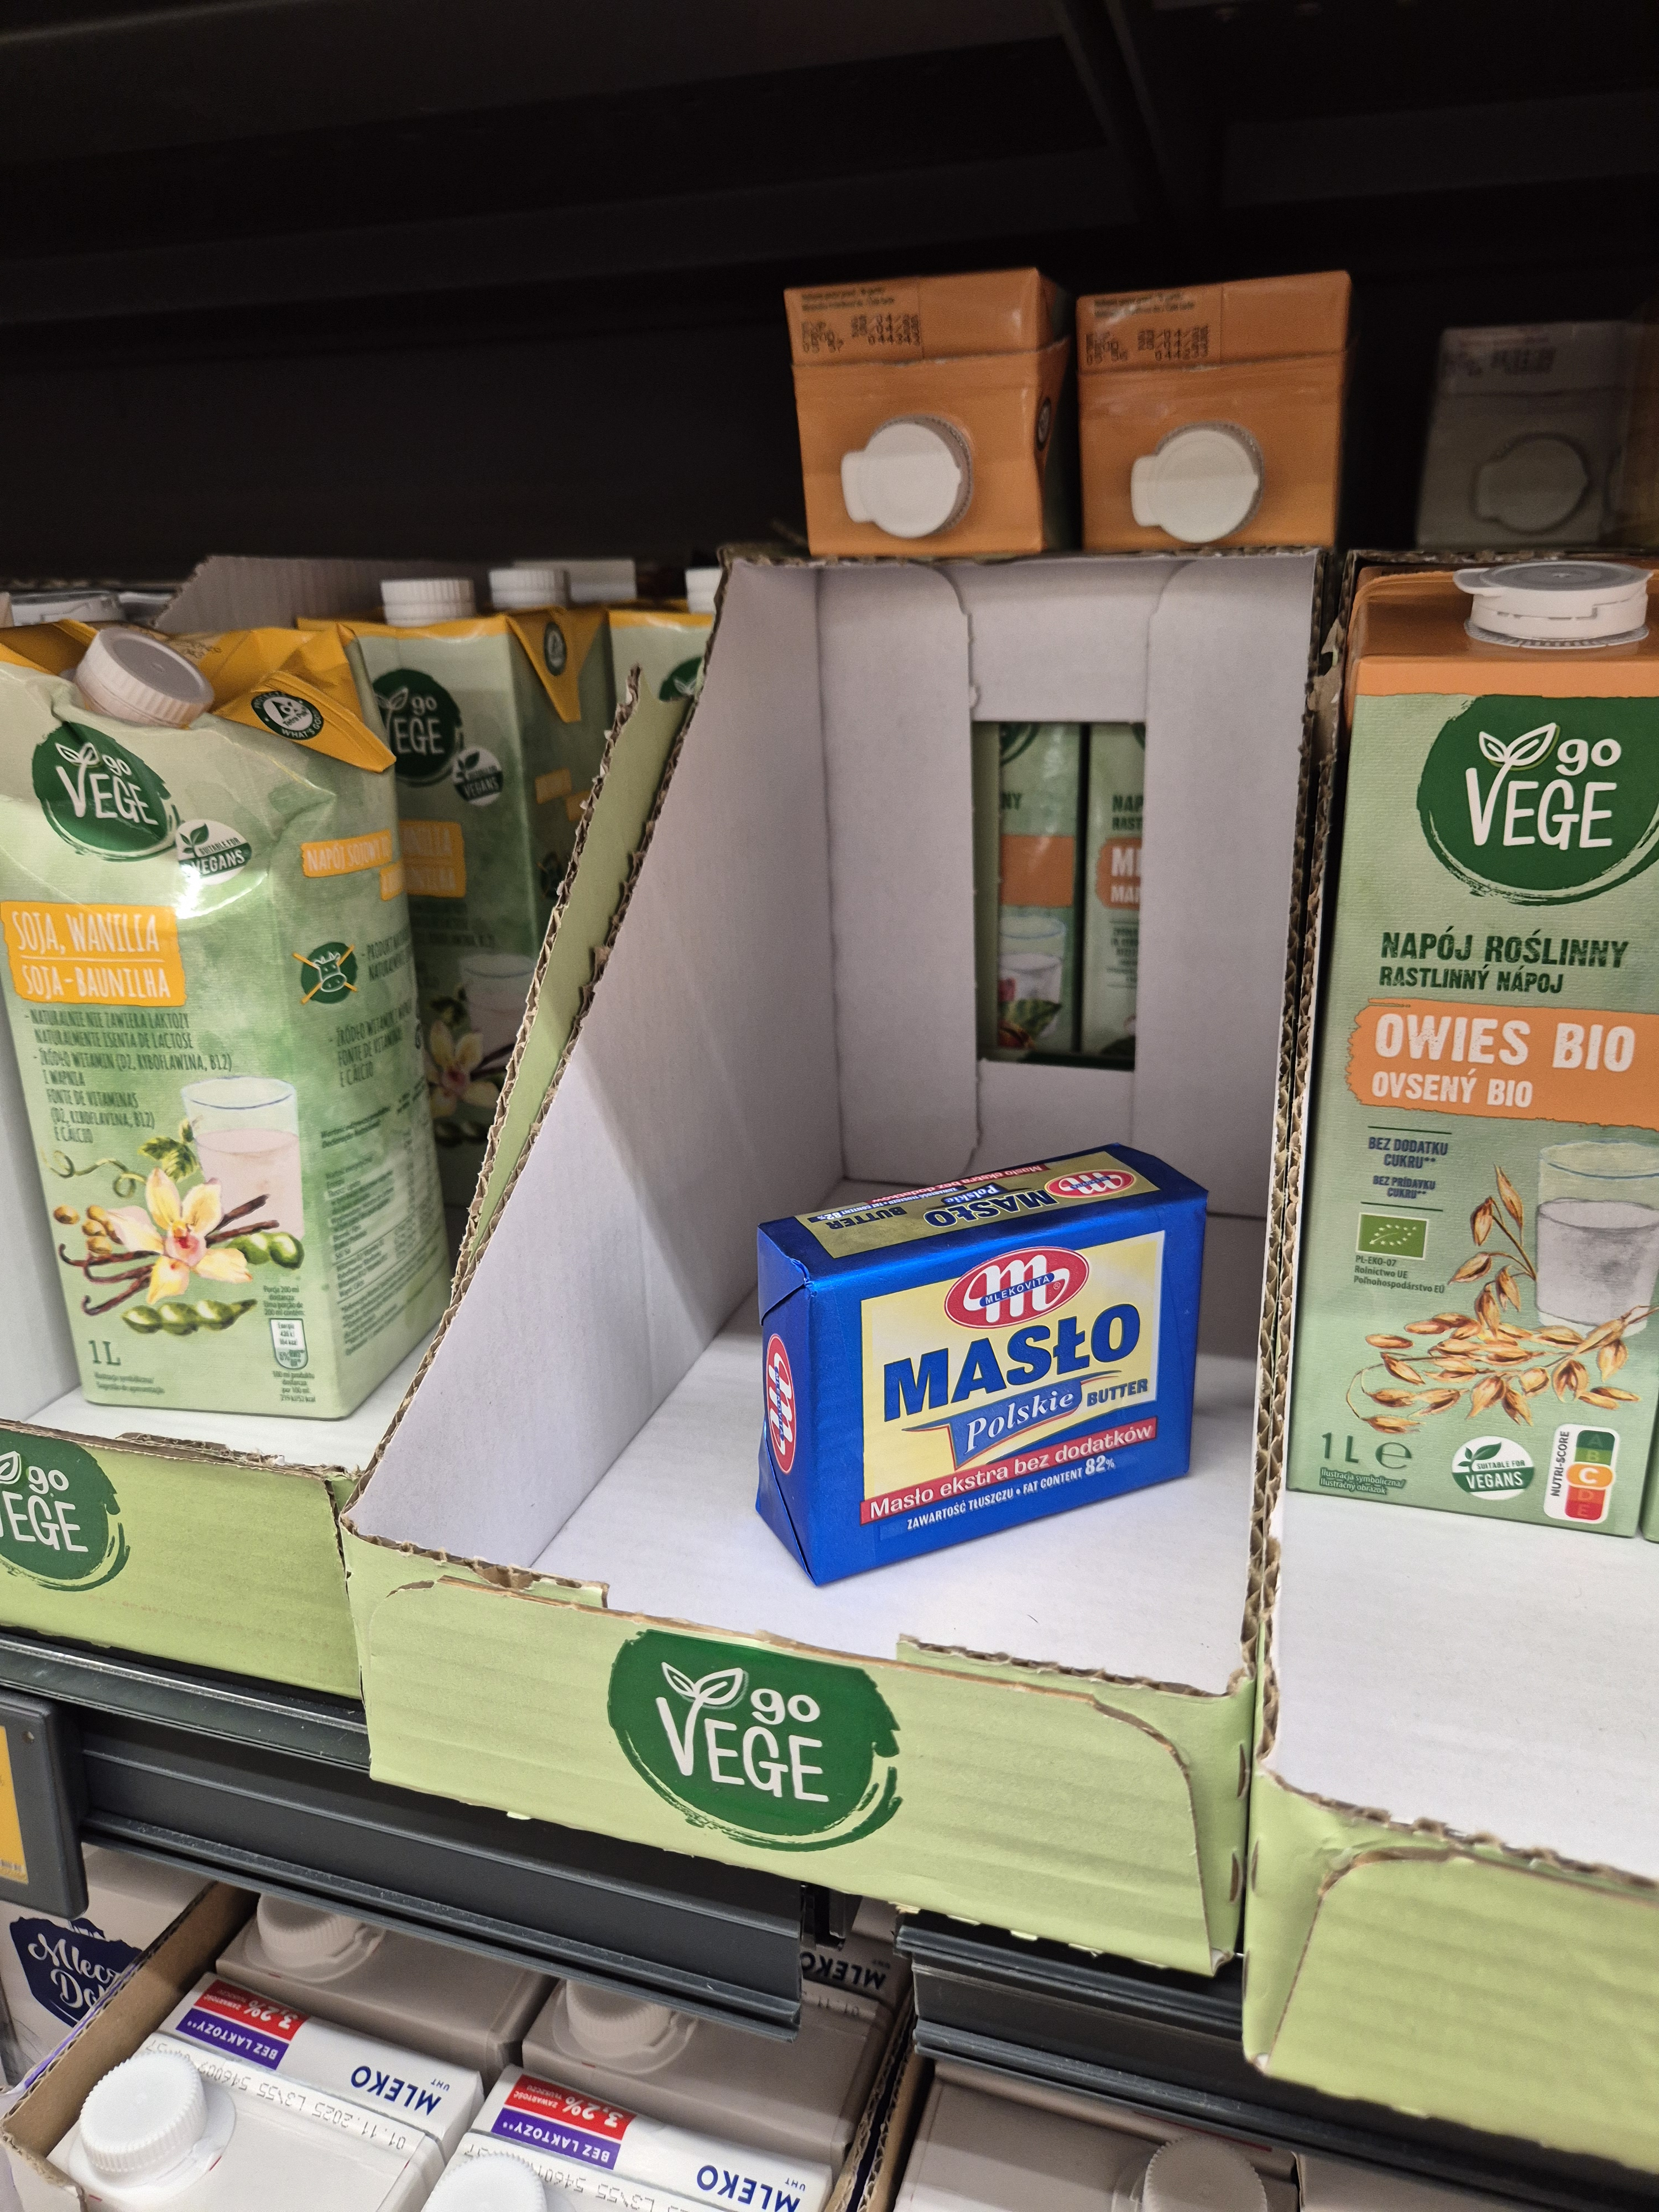Butter: (753, 1118, 1201, 1548)
